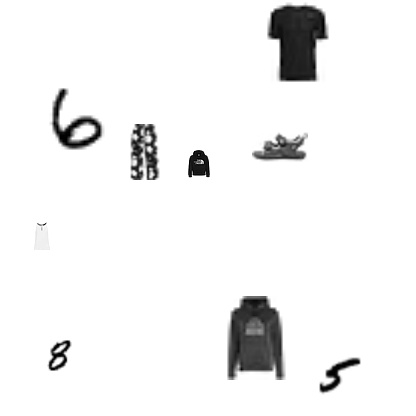5: (308, 344, 364, 400)
6: (29, 83, 113, 167)
8: (37, 333, 79, 375)
Pullover: (213, 296, 297, 380), (185, 150, 213, 178)
Sandal: (252, 119, 308, 175)
T-shirt/top: (256, 0, 340, 84), (28, 222, 56, 250)
Trouser: (117, 124, 173, 180)
